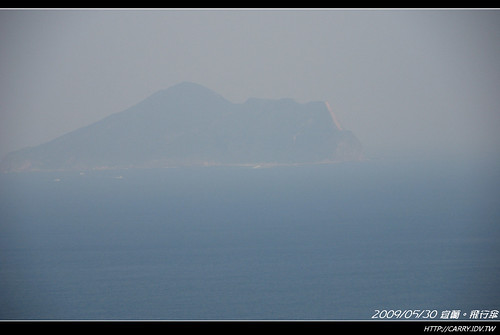turtleIsland: (3, 81, 364, 162)
